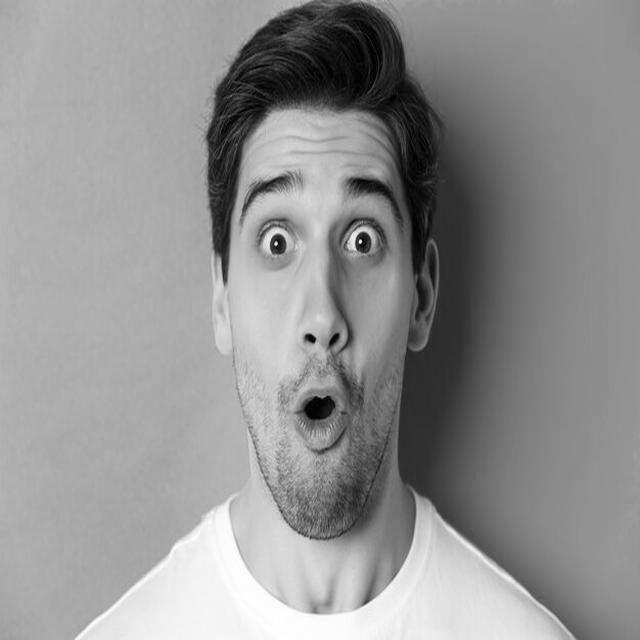Surprised: (228, 110, 415, 539)
